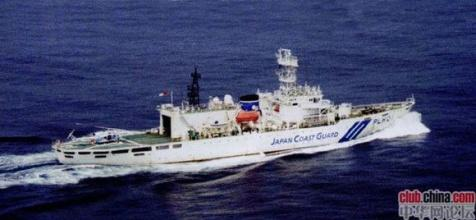warship: (55, 42, 416, 169)
